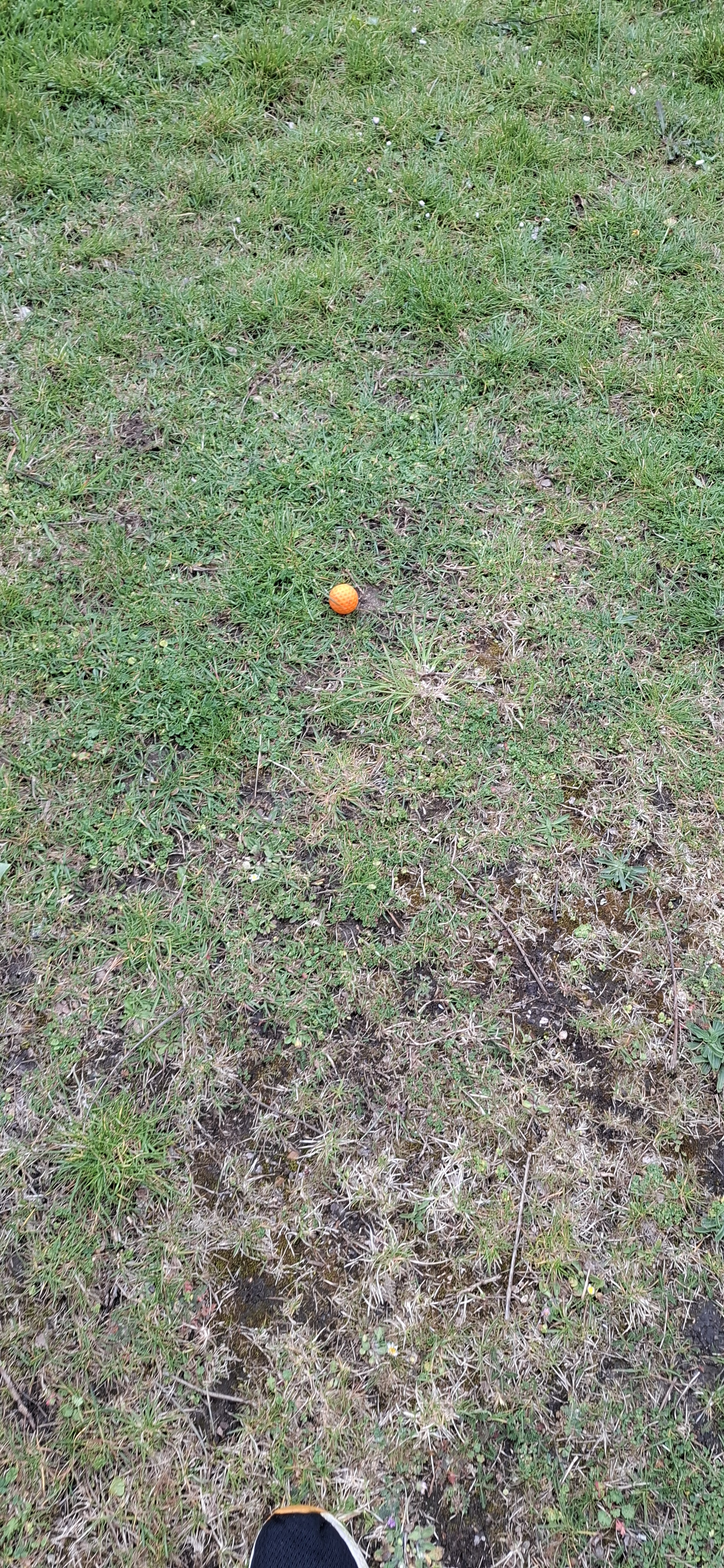ball: (270, 792, 283, 855)
